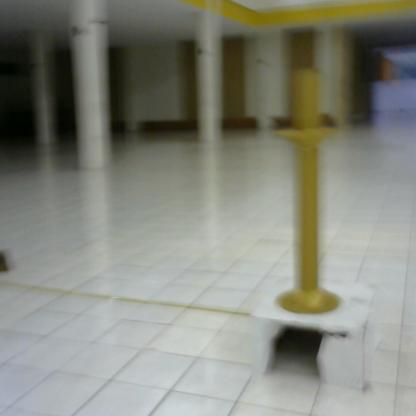pole: (270, 57, 348, 329)
